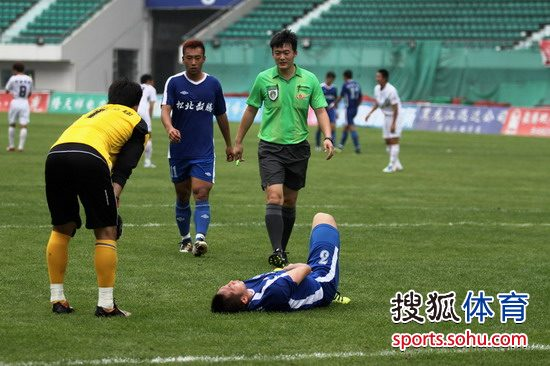fall: (207, 206, 358, 316)
